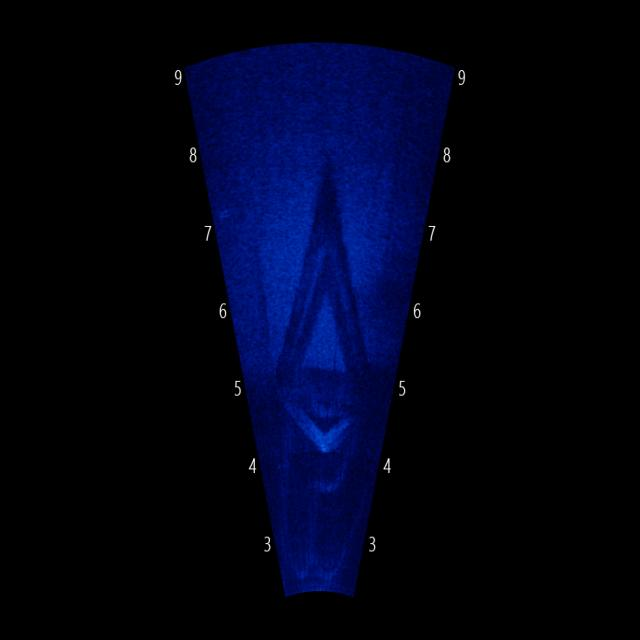triangle: (280, 248, 376, 417), (288, 389, 362, 456)
